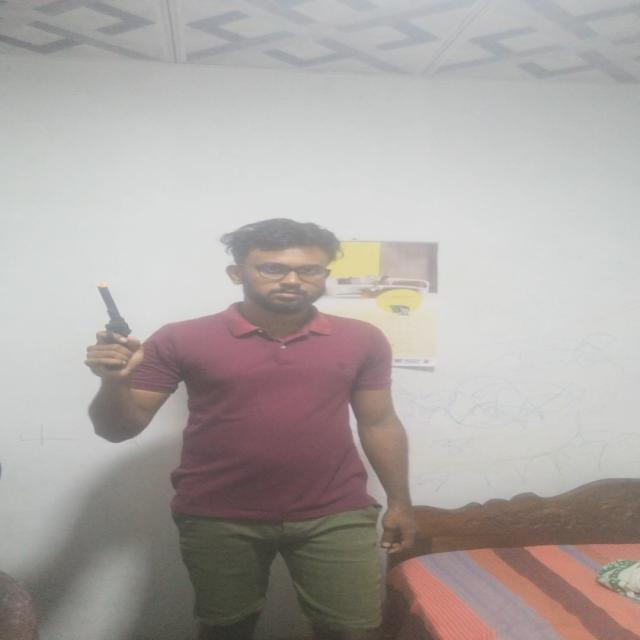Gun_Holder: (80, 281, 160, 359)
Person: (86, 217, 424, 640)
